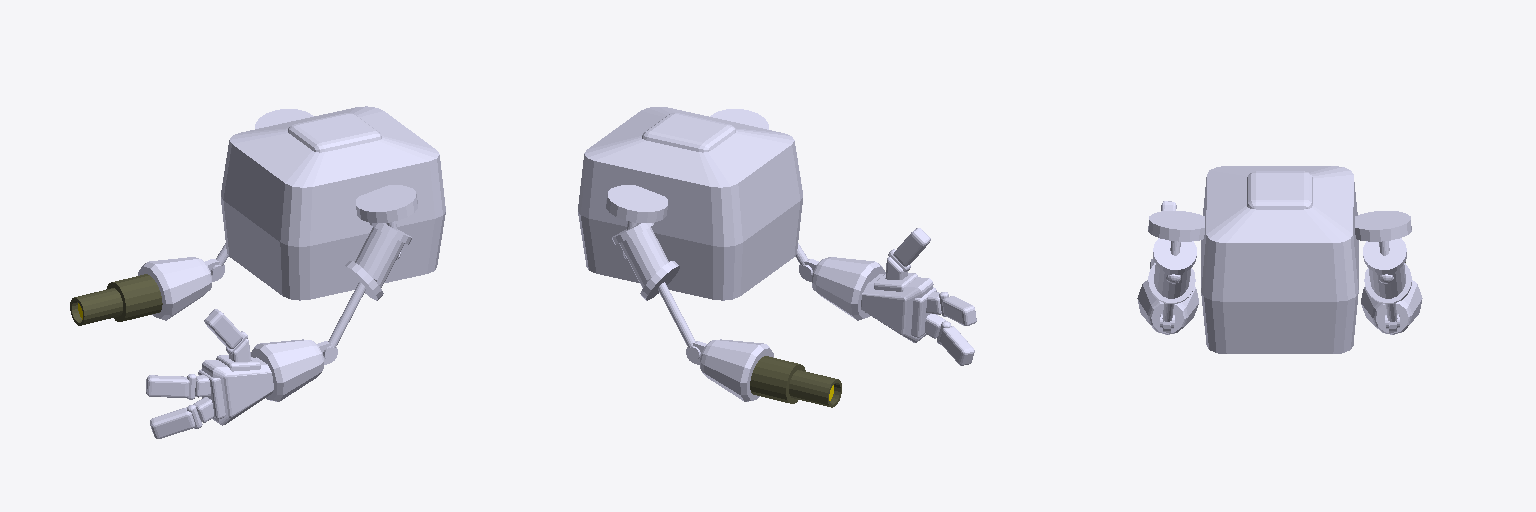
Rendered from robot_body.obj.
3 views of the same model, side by side, from view 1: azimuth 30°, elevation 25°; view 2: azimuth 150°, elevation 25°; view 3: azimuth 270°, elevation 25° (orthographic).
Parts seen in each view (by area): view 1: ChamferBox13, Capsule07, Capsule14, ChamferBox16, Cylinder29, Cylinder01, Cylinder27, Cylinder51, ChamferBox14, ChamferBox22, ChamferBox20, Cylinder21 (+3 smaller); view 2: ChamferBox13, Capsule14, Capsule07, ChamferBox16, Cylinder50, Cylinder01, Cylinder48, Cylinder51, ChamferBox14, ChamferBox20, ChamferBox22, Cylinder43 (+3 smaller); view 3: ChamferBox13, Cylinder50, Cylinder29, Capsule14, Capsule07, Cylinder49, Cylinder28, Cylinder48, Cylinder27.
Part boxes in pixels (left/top/right/bottom): ChamferBox13: left=221, top=106, right=445, bottom=300; Capsule07: left=251, top=339, right=323, bottom=401; Capsule14: left=138, top=257, right=211, bottom=320; ChamferBox16: left=202, top=357, right=273, bottom=425; Cylinder29: left=356, top=185, right=417, bottom=222; Cylinder01: left=106, top=274, right=162, bottom=321; Cylinder27: left=355, top=227, right=404, bottom=287; Cylinder51: left=70, top=288, right=122, bottom=325; ChamferBox14: left=150, top=407, right=194, bottom=438; ChamferBox22: left=146, top=375, right=189, bottom=397; ChamferBox20: left=204, top=309, right=242, bottom=348; Cylinder21: left=328, top=282, right=365, bottom=347; ChamferBox13: left=578, top=107, right=802, bottom=300; Capsule14: left=700, top=339, right=773, bottom=401; Capsule07: left=812, top=257, right=885, bottom=320; ChamferBox16: left=861, top=274, right=933, bottom=342; Cylinder50: left=606, top=185, right=667, bottom=222; Cylinder01: left=750, top=356, right=805, bottom=403; Cylinder48: left=619, top=227, right=668, bottom=287; Cylinder51: left=789, top=370, right=841, bottom=407; ChamferBox14: left=939, top=326, right=974, bottom=365; ChamferBox20: left=893, top=228, right=930, bottom=266; ChamferBox22: left=942, top=296, right=976, bottom=325; Cylinder43: left=658, top=282, right=695, bottom=347; ChamferBox13: left=1201, top=166, right=1358, bottom=353; Cylinder50: left=1355, top=211, right=1411, bottom=241; Cylinder29: left=1148, top=211, right=1204, bottom=241; Capsule14: left=1361, top=280, right=1422, bottom=334; Capsule07: left=1137, top=280, right=1198, bottom=334; Cylinder49: left=1363, top=238, right=1406, bottom=273; Cylinder28: left=1153, top=238, right=1196, bottom=273; Cylinder48: left=1369, top=265, right=1405, bottom=298; Cylinder27: left=1154, top=265, right=1190, bottom=298.
Bounding box in the file's own units: 341 × 224 × 266.